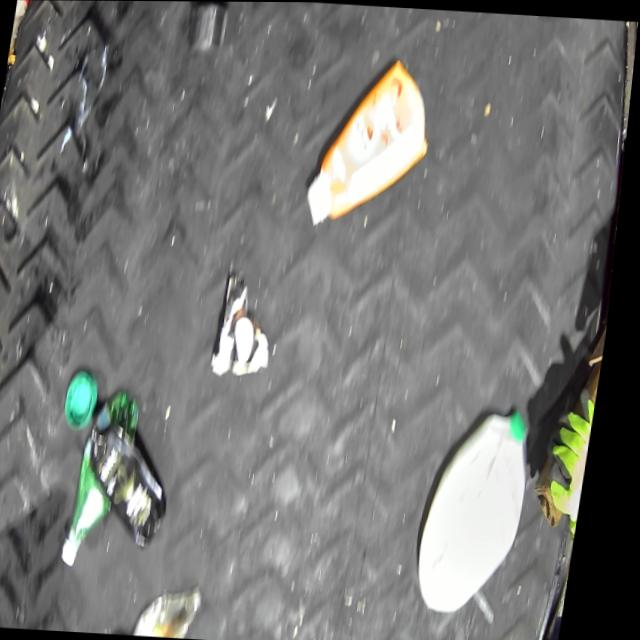milk_jug: (420, 402, 547, 617)
non_white_jug: (303, 51, 446, 233)
plastic_bottle: (7, 0, 36, 68)
